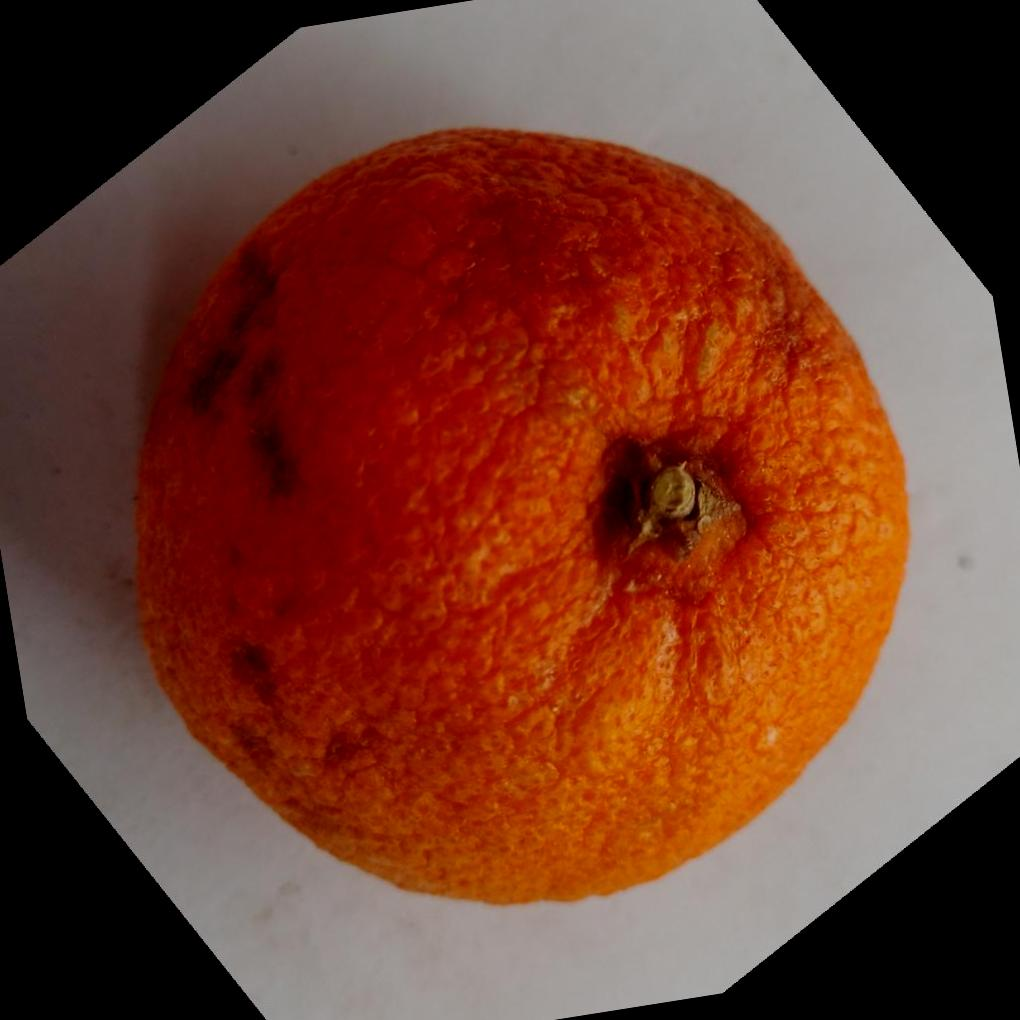FreshOrange: (130, 126, 913, 911)
